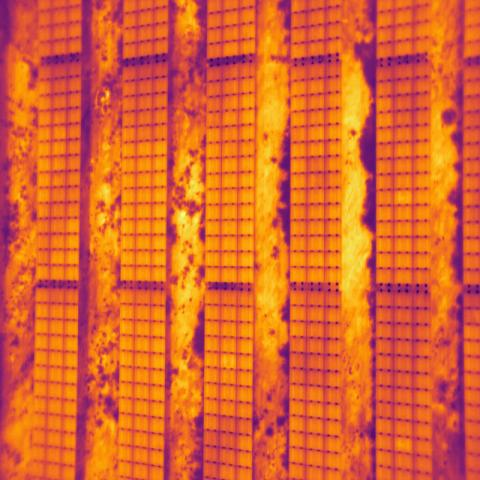fault: (394, 437, 413, 452)
